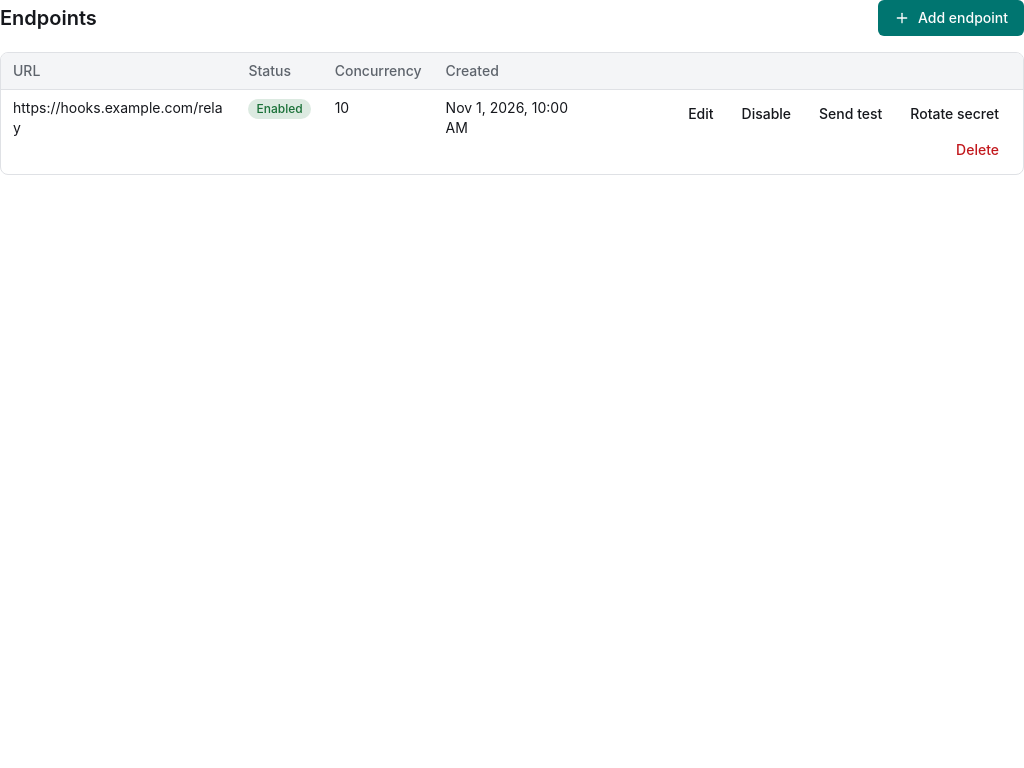
it: endpoints: create › checks the URL before sending anything
Check: the link "https://hooks.example.com/relay" is shown, box [13, 99, 223, 136]
Click the button "Add endpoint" at point(951, 18), box [878, 0, 1023, 36]
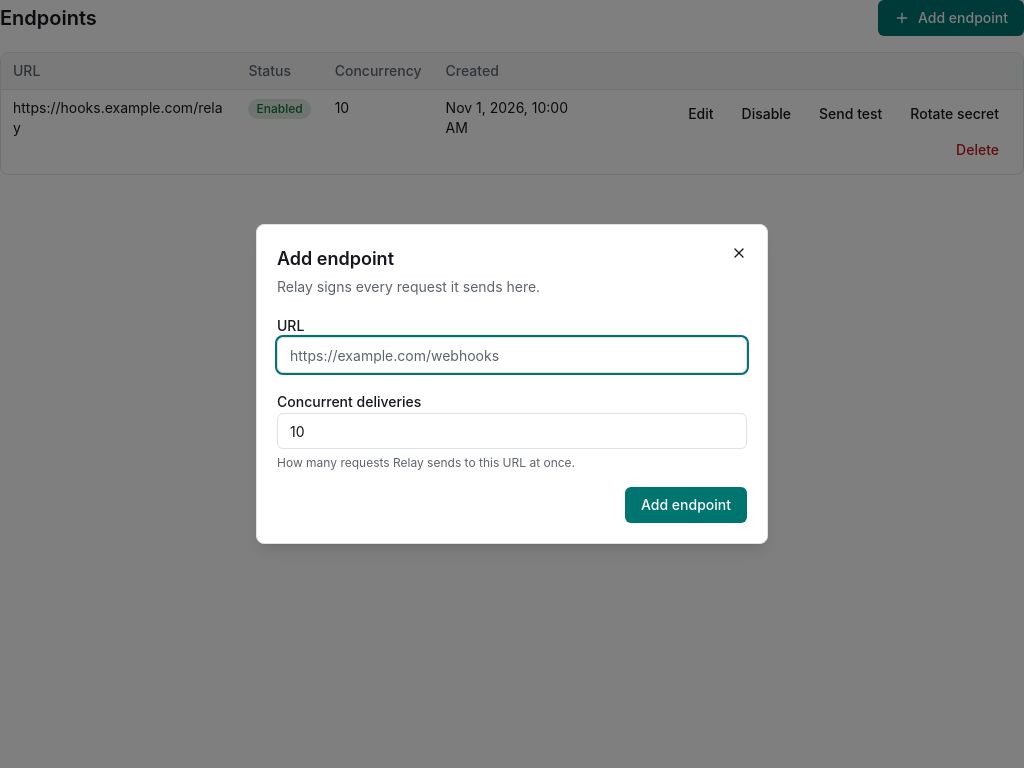
Type "not a url" into the field labelled "URL" at point(512, 355), box [277, 337, 747, 373]
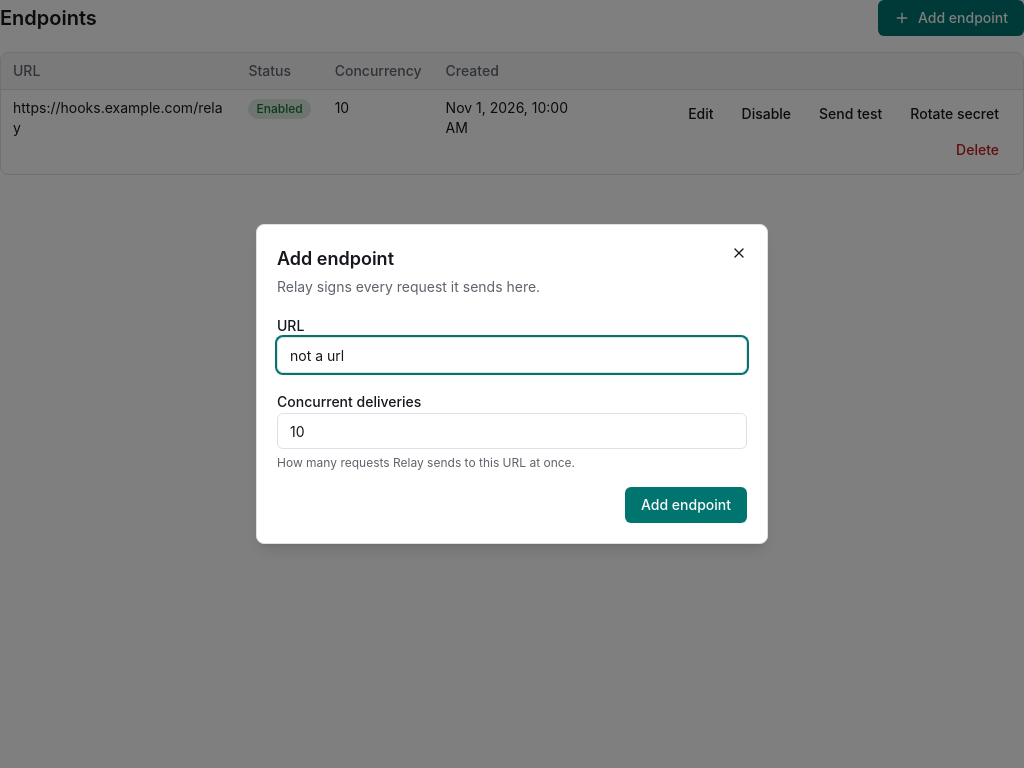
Click the button "Add endpoint" at point(686, 505), box [625, 487, 747, 523]
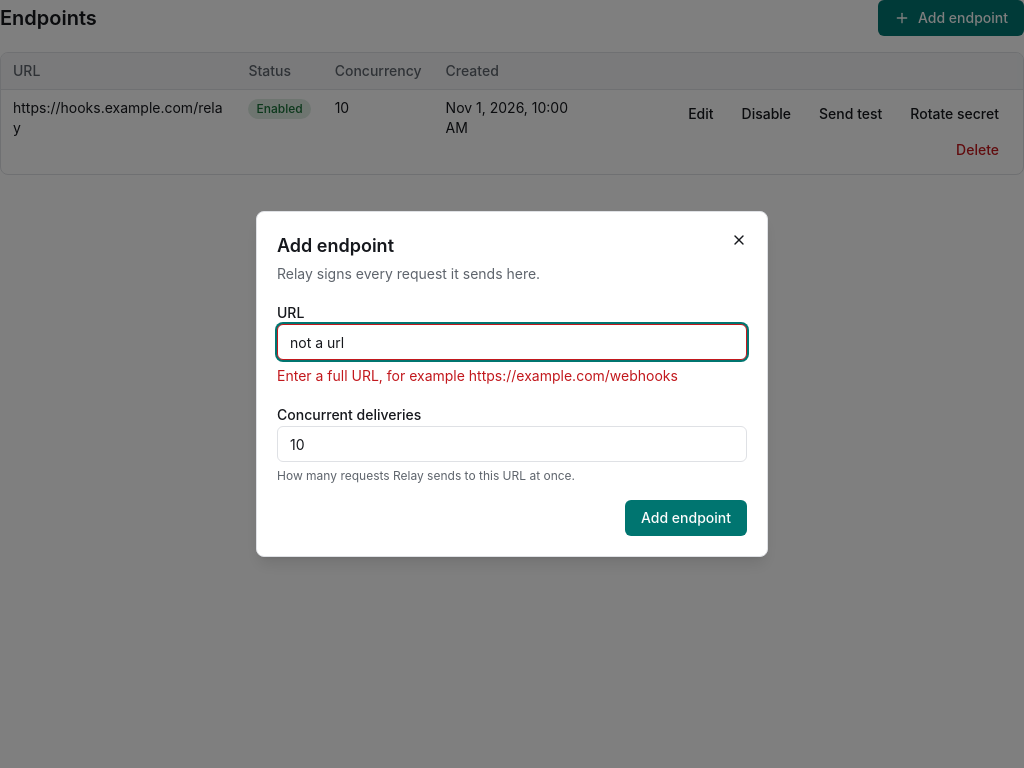
Check: the text "Enter a full URL, for example https://example.com/webhooks" is shown, box [277, 366, 747, 386]
